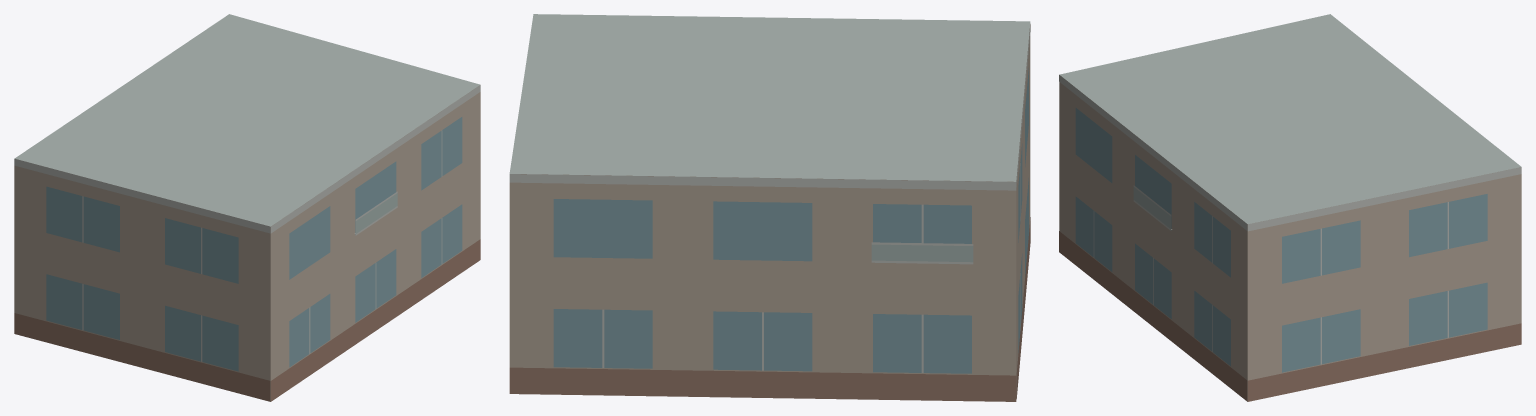
Rendered from survey-upis-33032943.glb.
3 renders of one model, left to right at view 1: azimuth 30°, elevation 25°; view 2: azimuth 150°, elevation 25°; view 3: azimuth 270°, elevation 25°, orthographic. The views are drawn at different scales.
Parts seen in each view (by area): view 1: survey-upis-33032943.tmp; view 2: survey-upis-33032943.tmp; view 3: survey-upis-33032943.tmp.
Part boxes in pixels (x1,y1,x2,y2): survey-upis-33032943.tmp: (14, 14, 480, 401); survey-upis-33032943.tmp: (509, 14, 1030, 401); survey-upis-33032943.tmp: (1059, 14, 1521, 401).
Bounding box in the file's own units: 15.5 × 6.1 × 14.41.
